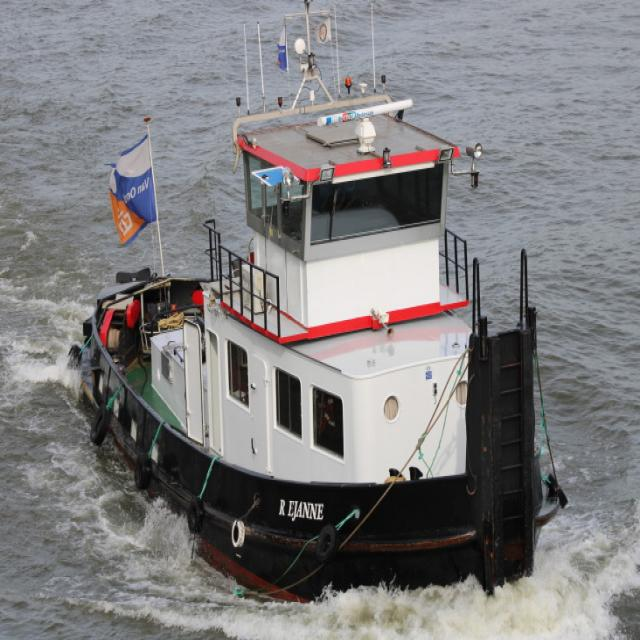tugboat: (58, 1, 576, 632)
